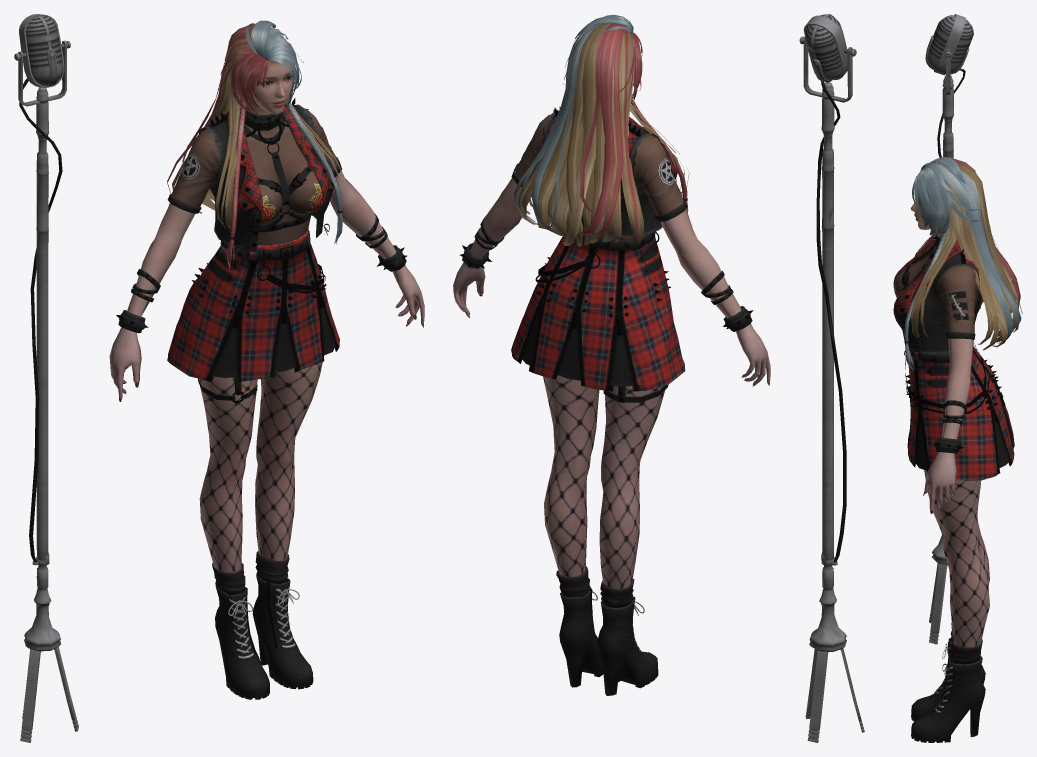
The model's file is Female_Staff_Punky.FBX.
3 views of the same model, side by side, from view 1: azimuth 30°, elevation 25°; view 2: azimuth 150°, elevation 25°; view 3: azimuth 270°, elevation 25° (orthographic). The views are drawn at different scales.
Visible parts, largest first — view 1: Female_Staff_Body_Punky001, Female_Staff_Weapon_Punky001, Female_Staff_Head_Punky001, Female_Staff_Body_Punky_Alpha001, Female_Staff_Cape_Punky001, Female_Staff_Face001; view 2: Female_Staff_Body_Punky001, Female_Staff_Head_Punky001, Female_Staff_Weapon_Punky001, Female_Staff_Body_Punky_Alpha001, Female_Staff_Cape_Punky001; view 3: Female_Staff_Body_Punky001, Female_Staff_Head_Punky001, Female_Staff_Weapon_Punky001, Female_Staff_Cape_Punky001, Female_Staff_Body_Punky_Alpha001.
Part boxes in pixels (left/top/right/bottom): Female_Staff_Body_Punky001: left=109, top=97, right=424, bottom=699; Female_Staff_Weapon_Punky001: left=14, top=14, right=78, bottom=742; Female_Staff_Head_Punky001: left=167, top=20, right=344, bottom=269; Female_Staff_Body_Punky_Alpha001: left=171, top=111, right=337, bottom=245; Female_Staff_Cape_Punky001: left=198, top=98, right=334, bottom=259; Female_Staff_Face001: left=252, top=58, right=293, bottom=114; Female_Staff_Body_Punky001: left=453, top=131, right=770, bottom=695; Female_Staff_Head_Punky001: left=514, top=14, right=689, bottom=246; Female_Staff_Weapon_Punky001: left=799, top=14, right=864, bottom=742; Female_Staff_Body_Punky_Alpha001: left=515, top=114, right=683, bottom=227; Female_Staff_Cape_Punky001: left=542, top=106, right=677, bottom=238; Female_Staff_Body_Punky001: left=894, top=228, right=1014, bottom=742; Female_Staff_Head_Punky001: left=904, top=157, right=1022, bottom=371; Female_Staff_Weapon_Punky001: left=925, top=14, right=973, bottom=644; Female_Staff_Cape_Punky001: left=893, top=239, right=982, bottom=361; Female_Staff_Body_Punky_Alpha001: left=895, top=247, right=978, bottom=333.
Bounding box in the file's own units: 107 × 181 × 34.16.
6 materials, 6 textured.
